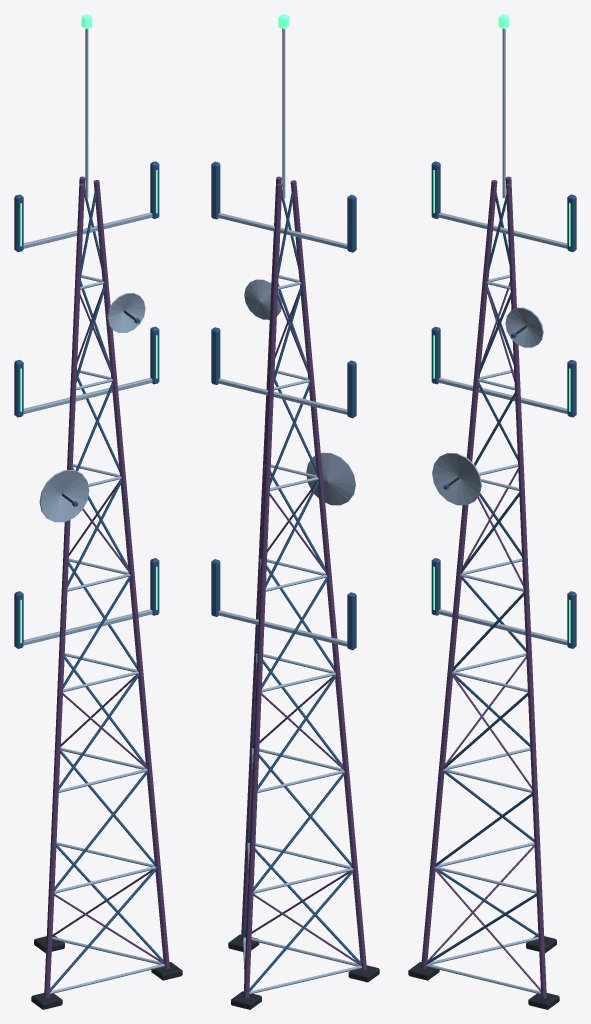
Rendered from climb_radio_landmark.glb.
The picture shows the model from 3 angles, left to right: view 1: azimuth 30°, elevation 25°; view 2: azimuth 150°, elevation 25°; view 3: azimuth 330°, elevation 25°; orthographic projection.
Visible parts, largest first — view 1: climb_radio_landmark; view 2: climb_radio_landmark; view 3: climb_radio_landmark.
Boxes of the visible parts, left/top/right/bottom form: climb_radio_landmark: left=14, top=14, right=182, bottom=1009; climb_radio_landmark: left=211, top=14, right=379, bottom=1009; climb_radio_landmark: left=408, top=14, right=576, bottom=1009.
Bounding box in the file's own units: 9.05 × 58 × 7.6.
